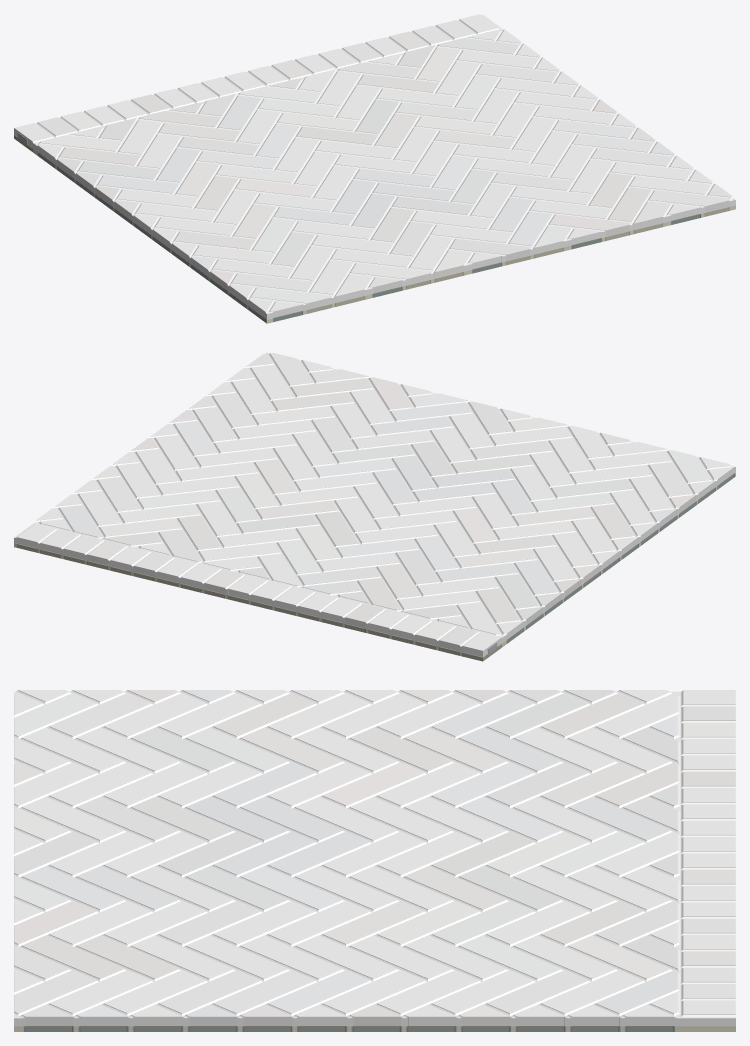
File: board_3.glb
3 views of the same model, one above another, from view 1: azimuth 30°, elevation 25°; view 2: azimuth 150°, elevation 25°; view 3: azimuth 270°, elevation 25° (orthographic). The views are drawn at different scales.
Parts seen in each view (by area): view 1: T01_T01, MORTAR, T04_T04, T03_T03, T02_T02, T05_T05, backing; view 2: T01_T01, MORTAR, T02_T02, T03_T03, T04_T04, T05_T05, backing; view 3: T01_T01, MORTAR, T03_T03, T02_T02, T04_T04, T05_T05, backing, CLIP_PK-3T03.
Boxes of the visible parts, box(x1,y1,x2,y2) form: T01_T01: box(59, 47, 710, 294); MORTAR: box(32, 14, 735, 319); T04_T04: box(40, 38, 729, 309); T03_T03: box(38, 29, 731, 318); T02_T02: box(14, 14, 497, 147); T05_T05: box(99, 45, 670, 302); backing: box(14, 134, 735, 323); T01_T01: box(79, 365, 691, 622); MORTAR: box(14, 352, 735, 652); T02_T02: box(17, 523, 501, 657); T03_T03: box(36, 354, 734, 638); T04_T04: box(59, 353, 710, 634); T05_T05: box(103, 369, 667, 618); backing: box(14, 472, 735, 661); T01_T01: box(22, 693, 669, 1013); MORTAR: box(14, 690, 735, 1026); T03_T03: box(14, 690, 677, 1025); T02_T02: box(683, 690, 735, 1014); T04_T04: box(14, 693, 677, 1013); T05_T05: box(14, 728, 677, 978); backing: box(14, 1026, 735, 1031); CLIP_PK-3T03: box(26, 1026, 673, 1026).
Size of the model in its own units: 1.5 by 0.033 by 1.4.
6 materials, 1 textured.
